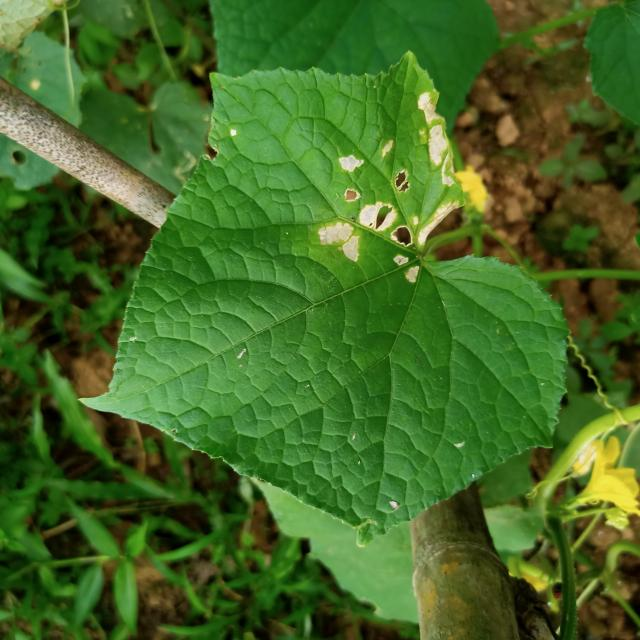disease_cucumber: (317, 92, 458, 285)
